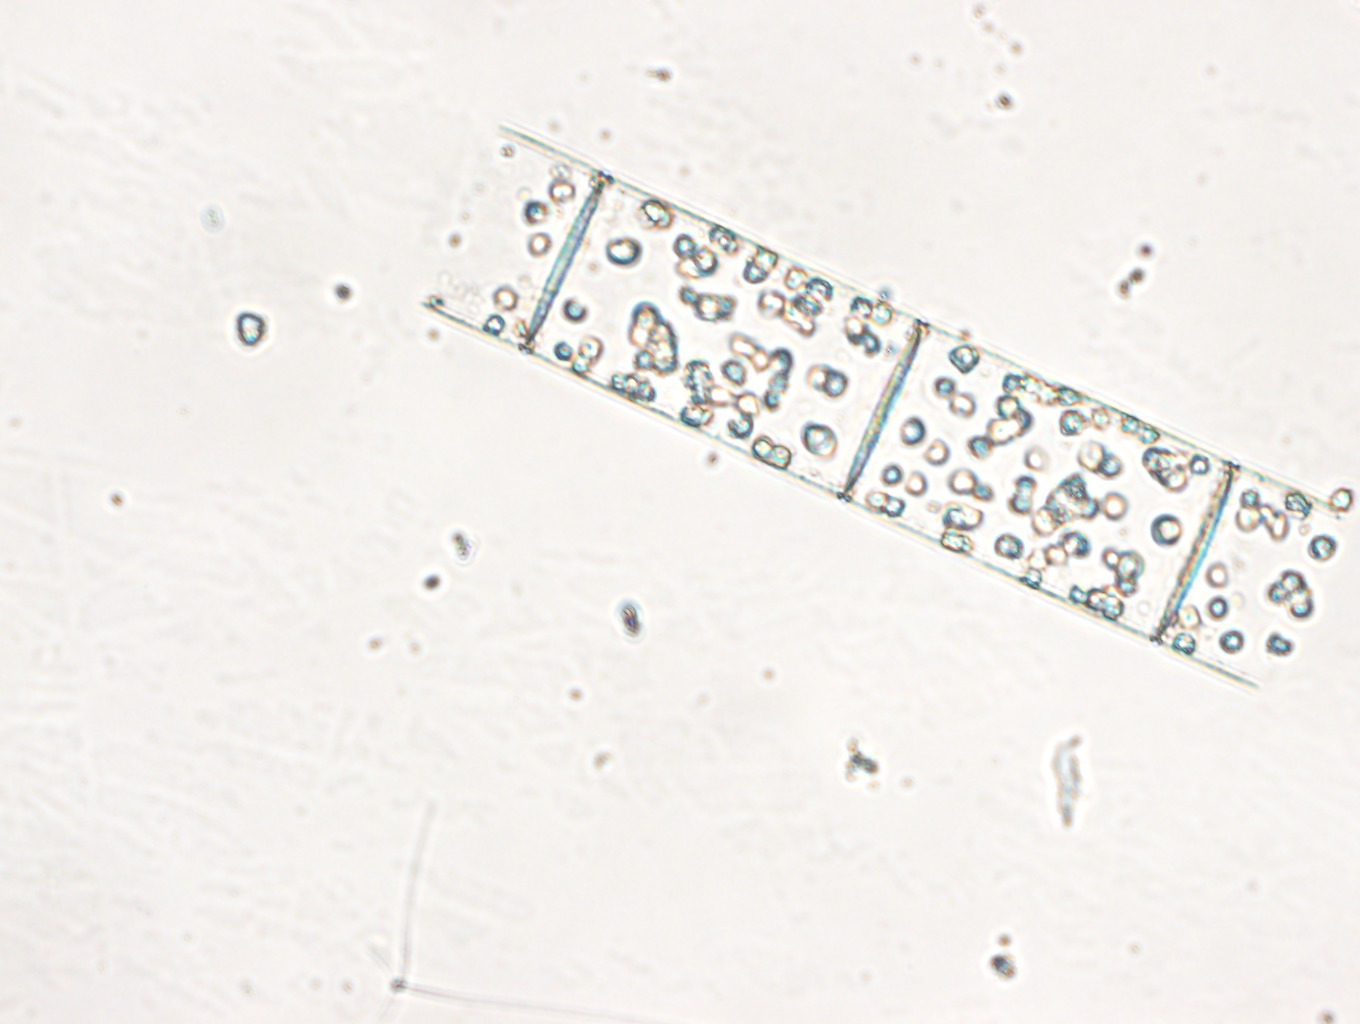guinardia flaccida: (418, 120, 1348, 684)
